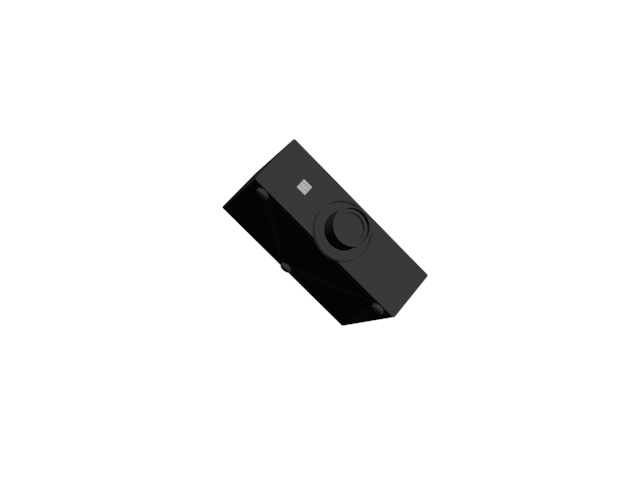projector: (217, 137, 432, 328)
